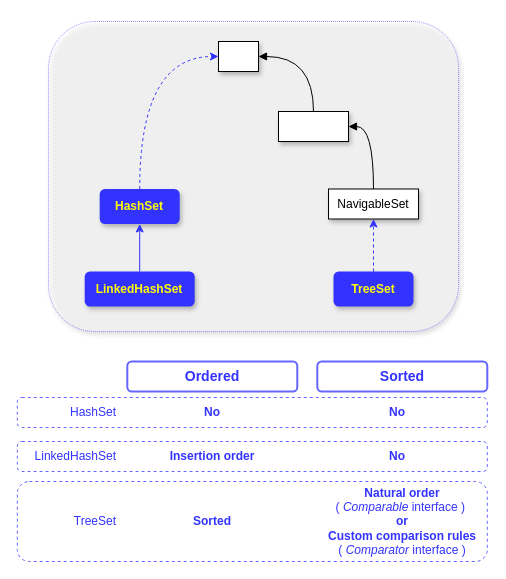
Some shapes in this 506 by 579 pixel diagram are drawn without their labels. Here are the shapes that lost their labels. From the top down, the centre of each, then its label:
At point 239,57: "Set".
At point 314,127: "SortedSet".
